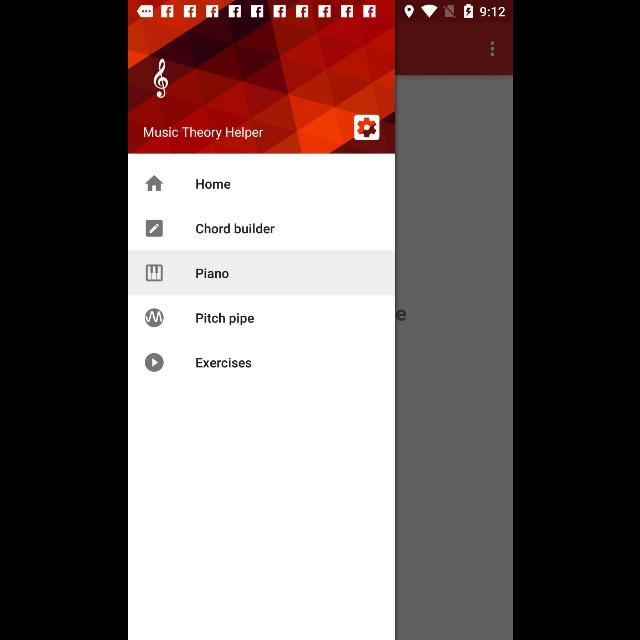icon: (353, 115, 379, 141), (144, 353, 164, 372), (145, 176, 163, 192), (146, 220, 162, 237), (490, 41, 494, 57)
image: (152, 58, 168, 98), (144, 308, 164, 328), (144, 264, 162, 282)
panel: (128, 24, 394, 640)
text: (143, 126, 263, 140), (196, 223, 274, 234), (195, 312, 253, 326), (195, 358, 251, 368), (194, 179, 230, 189), (196, 268, 228, 278)
uppertaskbar: (128, 1, 512, 23)
